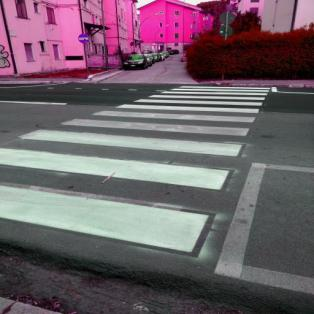Paso de Cebra: (14, 117, 264, 160)
